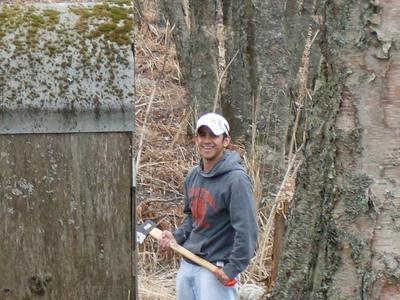person: (158, 114, 260, 299)
